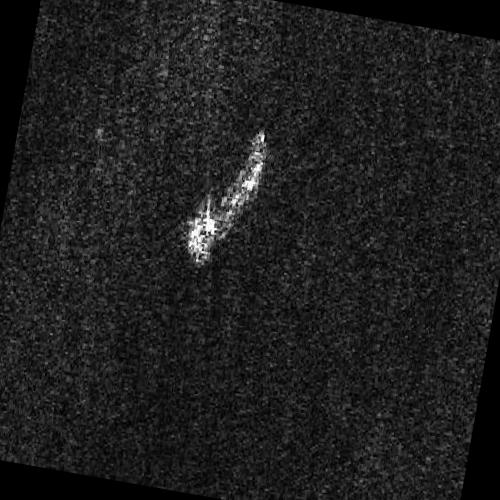ship: (187, 148, 265, 265)
